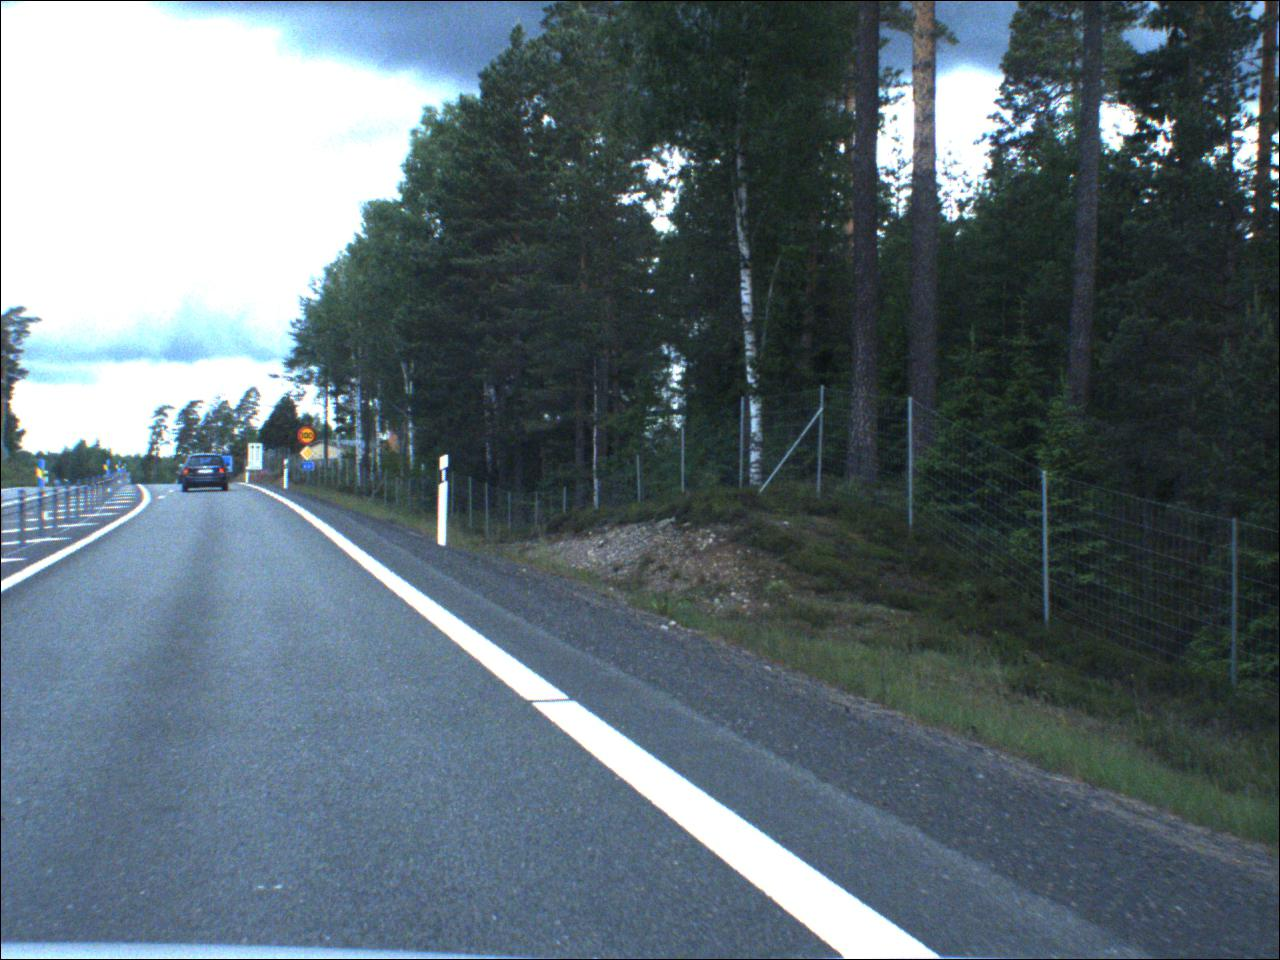100_SIGN: (299, 427, 318, 448)
PRIORITY_ROAD: (302, 448, 317, 462)
